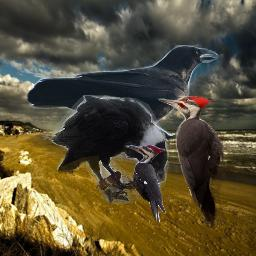Crow: (26, 45, 219, 159), (51, 95, 169, 204)
Woodpecker: (157, 96, 227, 228), (125, 145, 166, 224)
